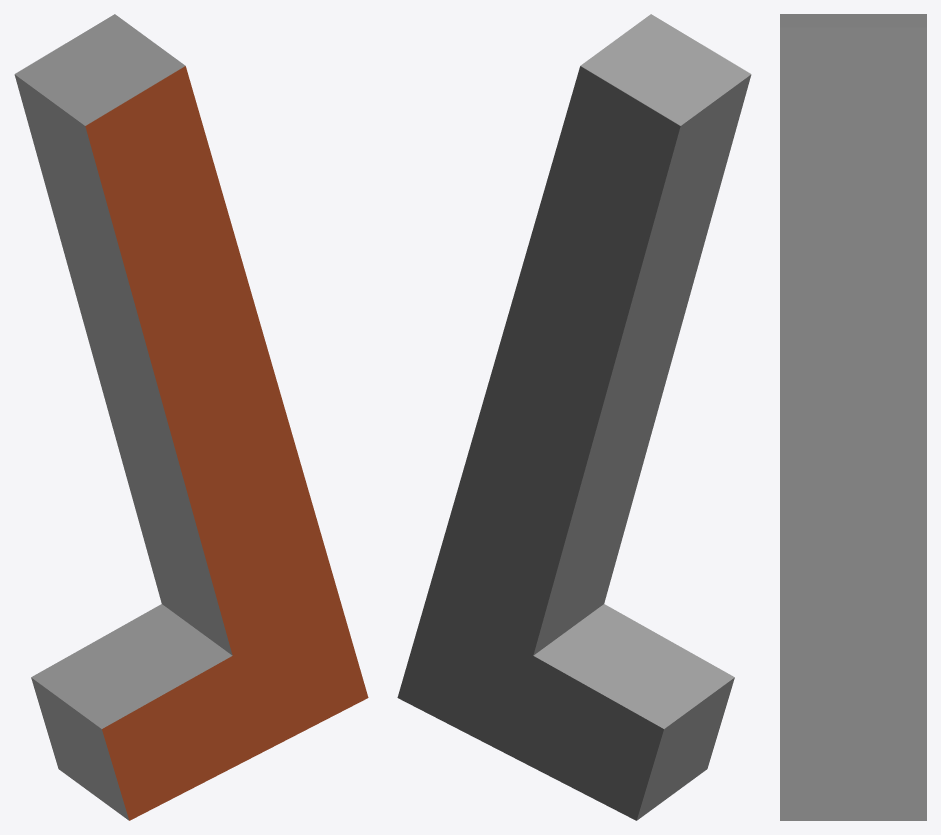
The model's file is construction_6499_assumed_A_Casa_h6m.obj.
The picture shows the model from 3 angles, left to right: view 1: azimuth 30°, elevation 25°; view 2: azimuth 150°, elevation 25°; view 3: azimuth 270°, elevation 25°; orthographic projection. The views are drawn at different scales.
Parts seen in each view (by area): view 1: construction_6499_assumed_A_Casa; view 2: construction_6499_assumed_A_Casa; view 3: construction_6499_assumed_A_Casa.
Boxes of the visible parts, x1,y1,x2,y2 form: construction_6499_assumed_A_Casa: (14,14,368,820); construction_6499_assumed_A_Casa: (397,14,751,820); construction_6499_assumed_A_Casa: (780,14,926,820).
Bounding box in the file's own units: 13.85 × 34.64 × 6.
